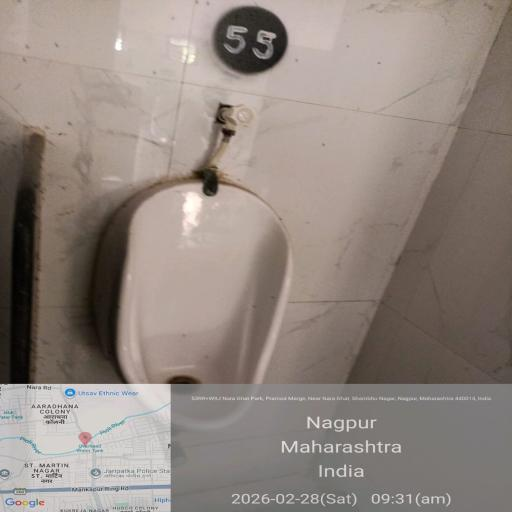clean_floor: (11, 7, 506, 148), (21, 392, 511, 512)
clean_urinal: (108, 156, 300, 462)
